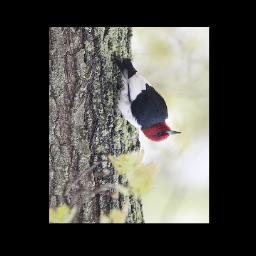Woodpecker: (115, 57, 182, 142)
